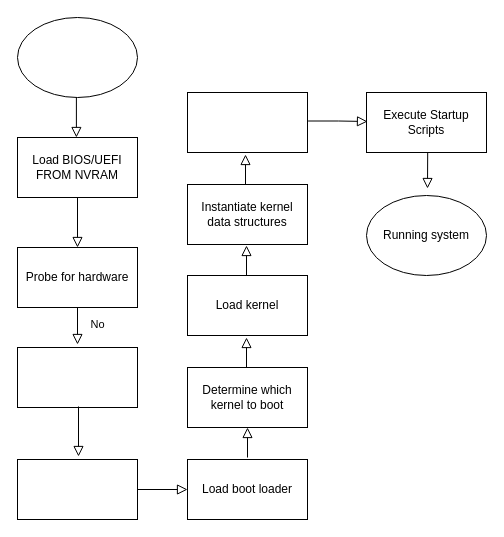
Image size: 504x537. Some labels were removed from this diagram. Each missing label, with the box of its shape:
Identify EFI system partition: (16, 458, 138, 520)
Power on: (16, 16, 138, 98)
Select boot device (disk,network,...): (16, 346, 138, 408)
Start init/systemd as PID 1: (186, 92, 308, 152)
